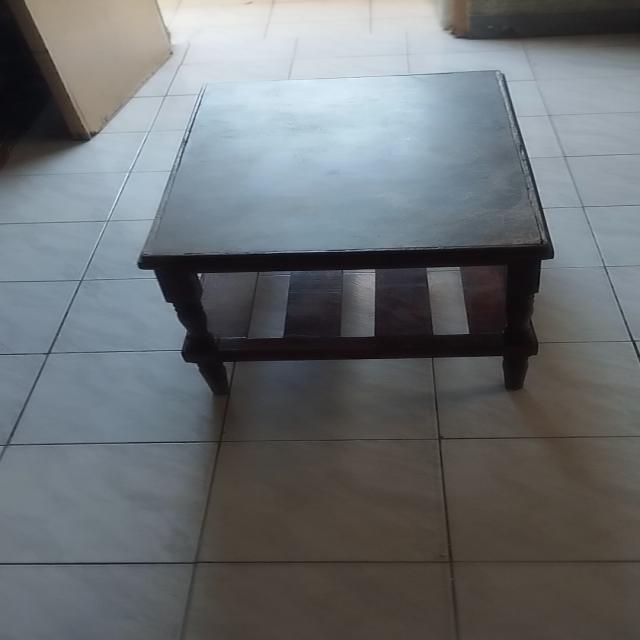table: (125, 66, 558, 398)
